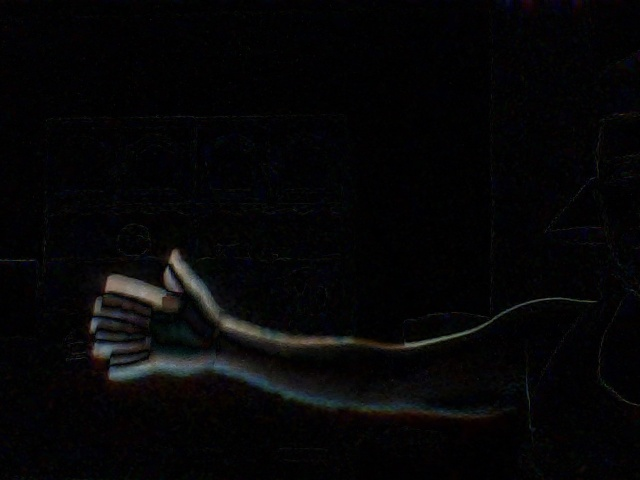hand_pa: (88, 241, 217, 385)
